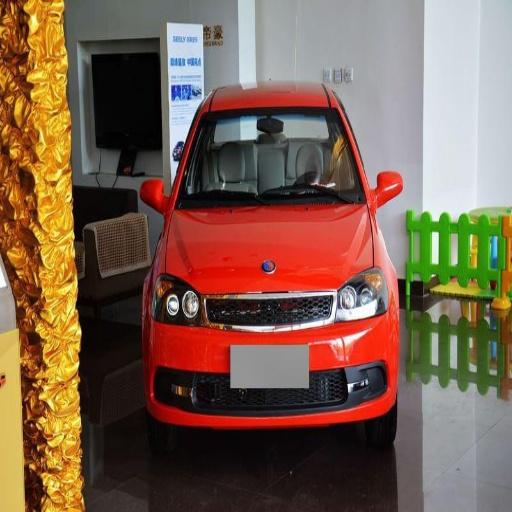front_bumper: (148, 290, 400, 429)
hood: (171, 204, 373, 293)
